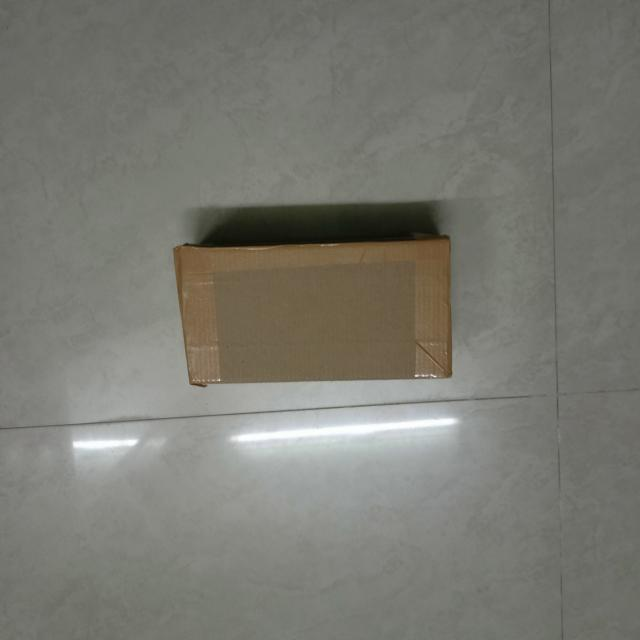box: (178, 239, 455, 379)
